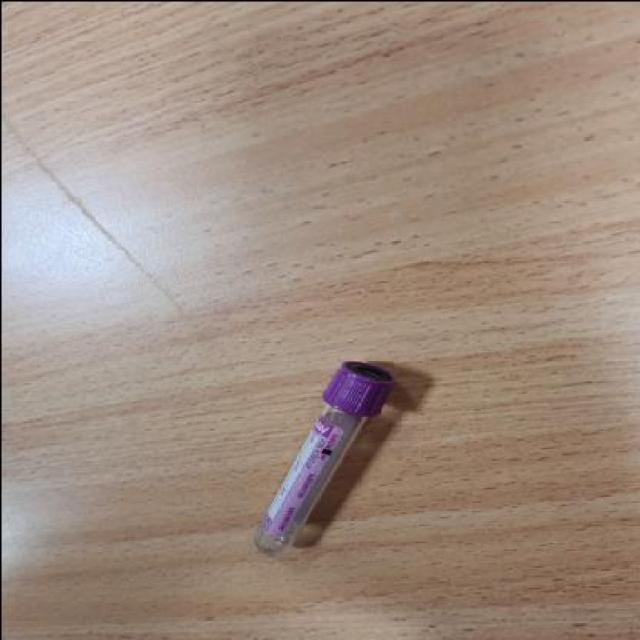Experimental-tube: (251, 359, 392, 556)
